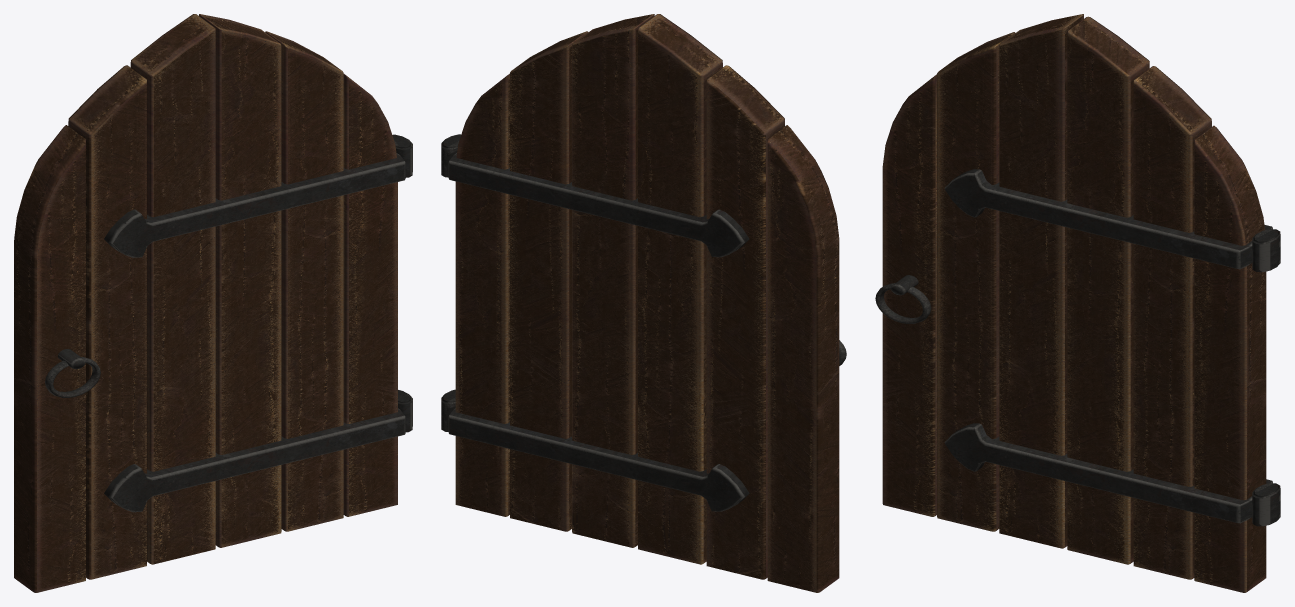
File: Door.obj
3 renders of one model, left to right at view 1: azimuth 30°, elevation 25°; view 2: azimuth 150°, elevation 25°; view 3: azimuth 330°, elevation 25°, orthographic.
Parts seen in each view (by area): view 1: Door_Medieval_Cube.001; view 2: Door_Medieval_Cube.001; view 3: Door_Medieval_Cube.001.
Boxes of the visible parts, bbox=[...] form: Door_Medieval_Cube.001: bbox=[14, 14, 412, 592]; Door_Medieval_Cube.001: bbox=[441, 14, 846, 592]; Door_Medieval_Cube.001: bbox=[875, 14, 1280, 592].
Size of the model in its own units: 2 by 2.59 by 0.3833.
1 material, 1 textured.
